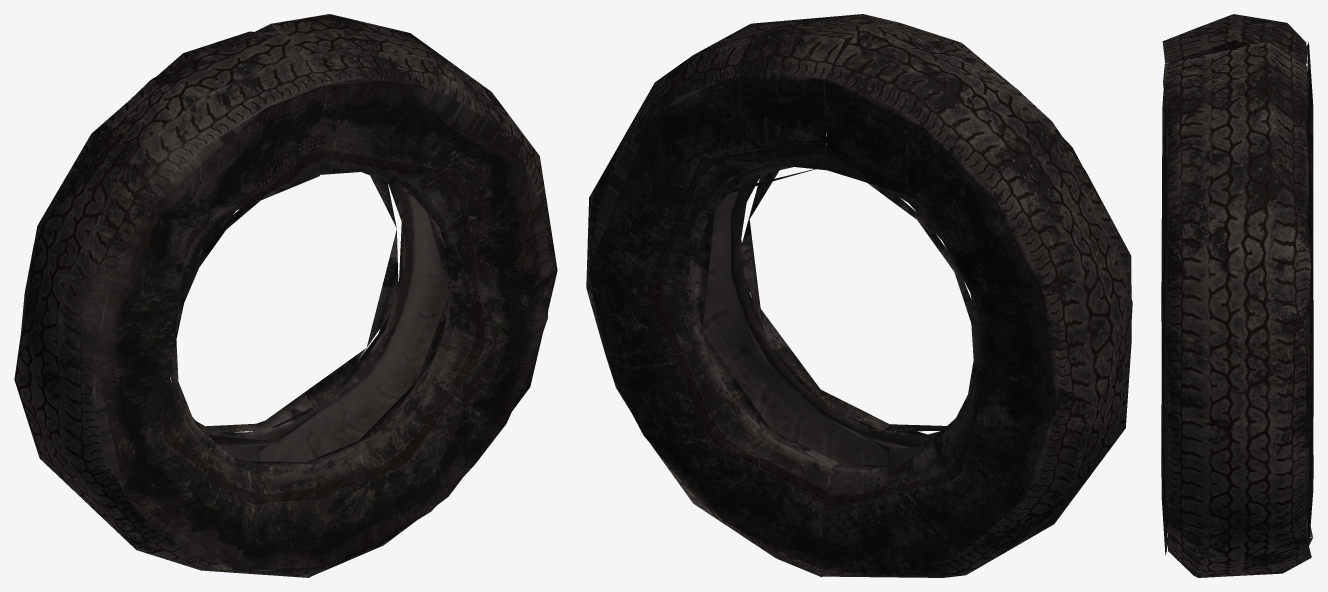
Rendered from tyre.glb.
3 renders of one model, left to right at view 1: azimuth 30°, elevation 25°; view 2: azimuth 150°, elevation 25°; view 3: azimuth 270°, elevation 25°, orthographic. The views are drawn at different scales.
Visible parts, largest first — view 1: old_tyre; view 2: old_tyre; view 3: old_tyre.
Boxes of the visible parts, x1,y1,x2,y2 form: old_tyre: (14, 14, 557, 577); old_tyre: (586, 14, 1132, 577); old_tyre: (1161, 14, 1313, 577).
Bounding box in the file's own units: 0.602 × 0.6037 × 0.1624.
Materials: 1 (1 with a texture image).
